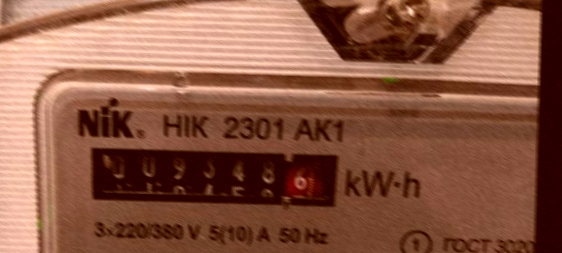0: (109, 154, 125, 180), (140, 152, 155, 178)
3: (201, 154, 216, 180)
4: (228, 153, 247, 184)
6: (291, 163, 308, 192)
8: (260, 157, 275, 185)
9: (171, 156, 185, 183)
screen: (71, 133, 351, 219)
